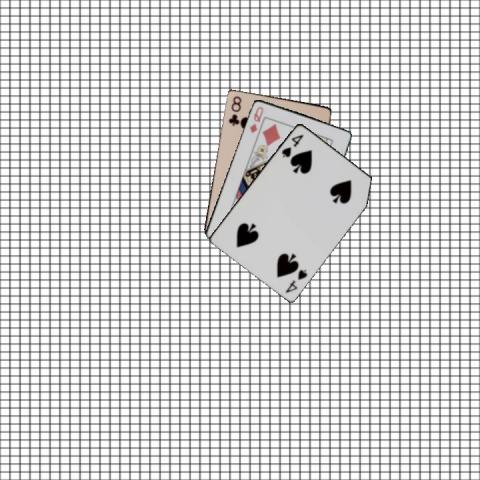4s: (282, 266, 309, 294), (278, 131, 304, 159)
8c: (225, 92, 243, 126)
Qd: (246, 103, 265, 134)
